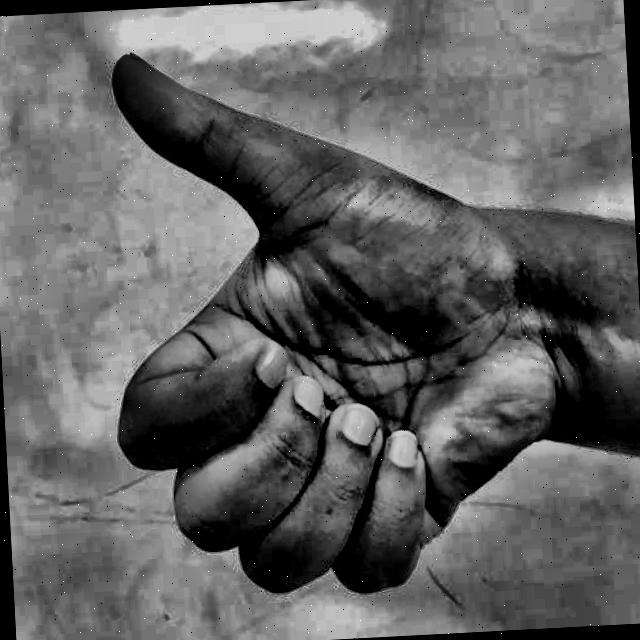Do: (56, 29, 572, 633)
